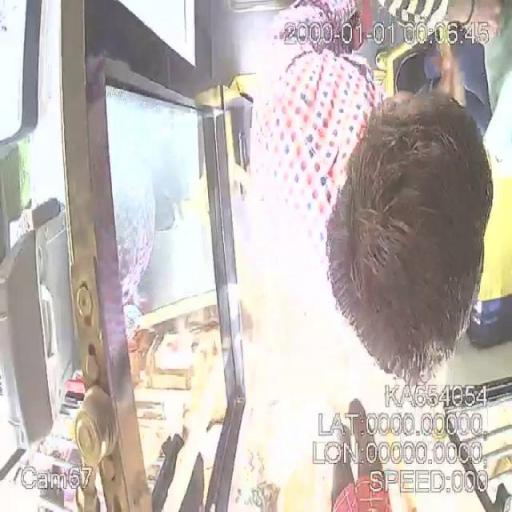persona: (252, 0, 500, 388), (317, 397, 404, 512)
